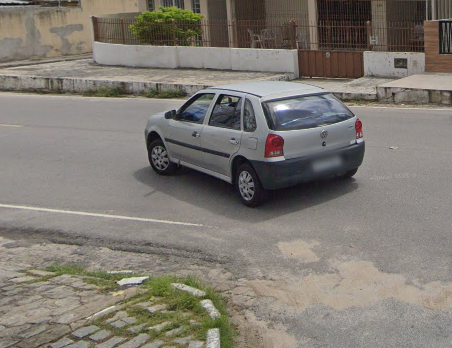car: (143, 78, 371, 209)
